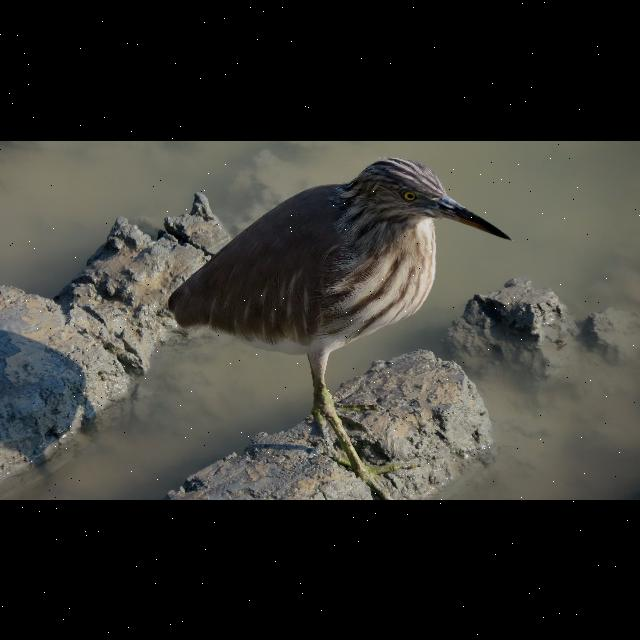heron: (163, 152, 514, 500)
